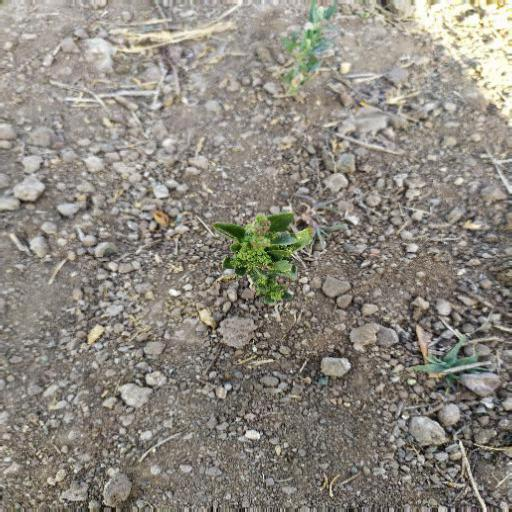weed: (216, 213, 304, 300), (278, 1, 344, 99)
